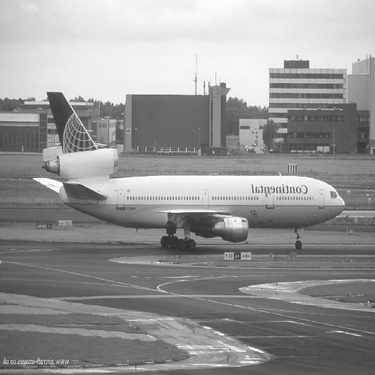airplane: (20, 85, 352, 264)
